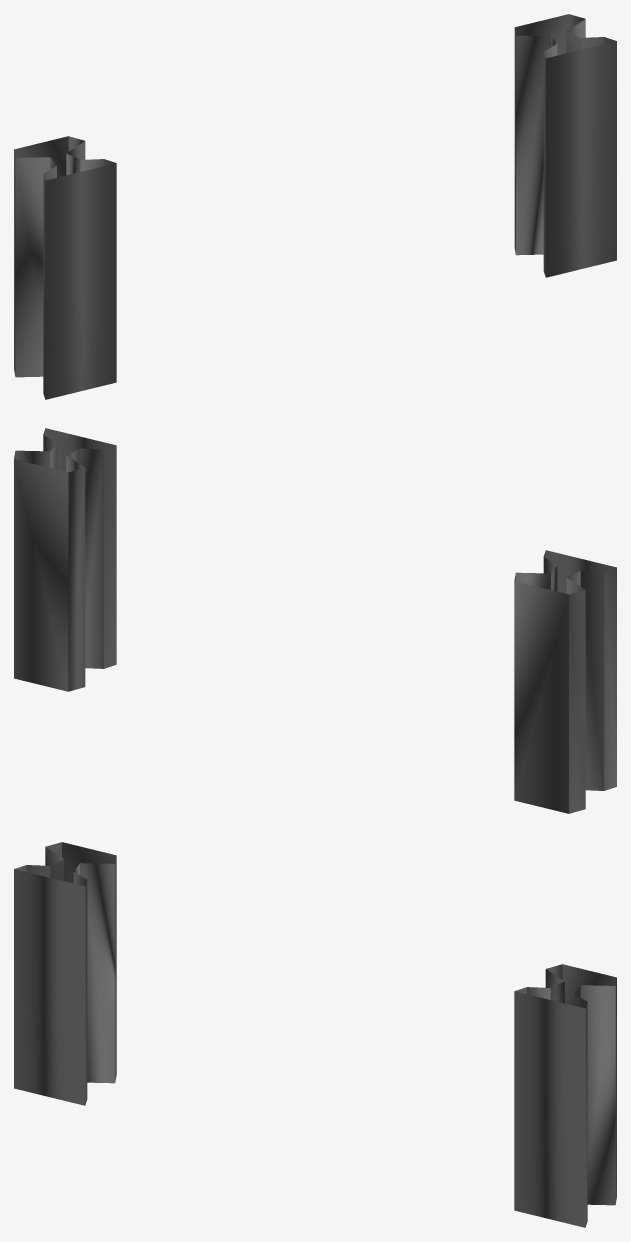
Rendered from railElementRailway.fbx.
3 views of the same model, one above another, from view 1: azimuth 30°, elevation 25°; view 2: azimuth 150°, elevation 25°; view 3: azimuth 330°, elevation 25° (orthographic).
Visible parts, largest first — view 1: railelementRailway; view 2: railelementRailway; view 3: railelementRailway.
Part boxes in pixels (bbox=[...]): railelementRailway: bbox=[14, 14, 616, 399]; railelementRailway: bbox=[14, 428, 616, 813]; railelementRailway: bbox=[14, 842, 616, 1227].
Bounding box in the file's own units: 0.7995 × 0.2933 × 0.0963.
